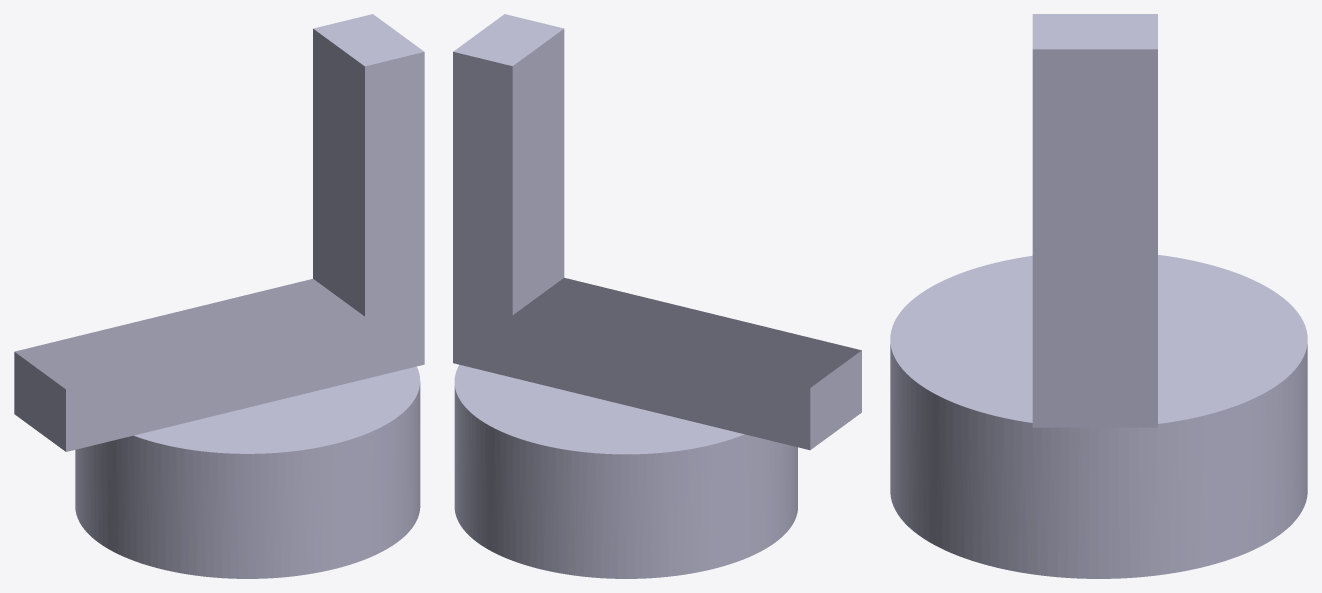
File: Unnamed_base_link_body.dae
3 views of the same model, side by side, from view 1: azimuth 30°, elevation 25°; view 2: azimuth 150°, elevation 25°; view 3: azimuth 270°, elevation 25° (orthographic). The views are drawn at different scales.
Parts seen in each view (by area): view 1: node0; view 2: node0; view 3: node0.
Boxes of the visible parts, x1,y1,x2,y2 form: node0: (14,14,424,578); node0: (453,14,861,578); node0: (890,14,1307,578).
Size of the model in its own units: 0.12 by 0.1 by 0.14.
